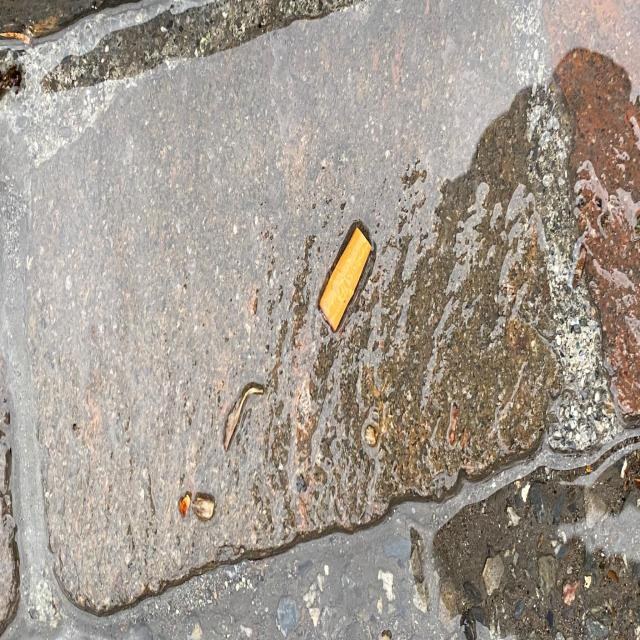other waste: (318, 224, 372, 334)
